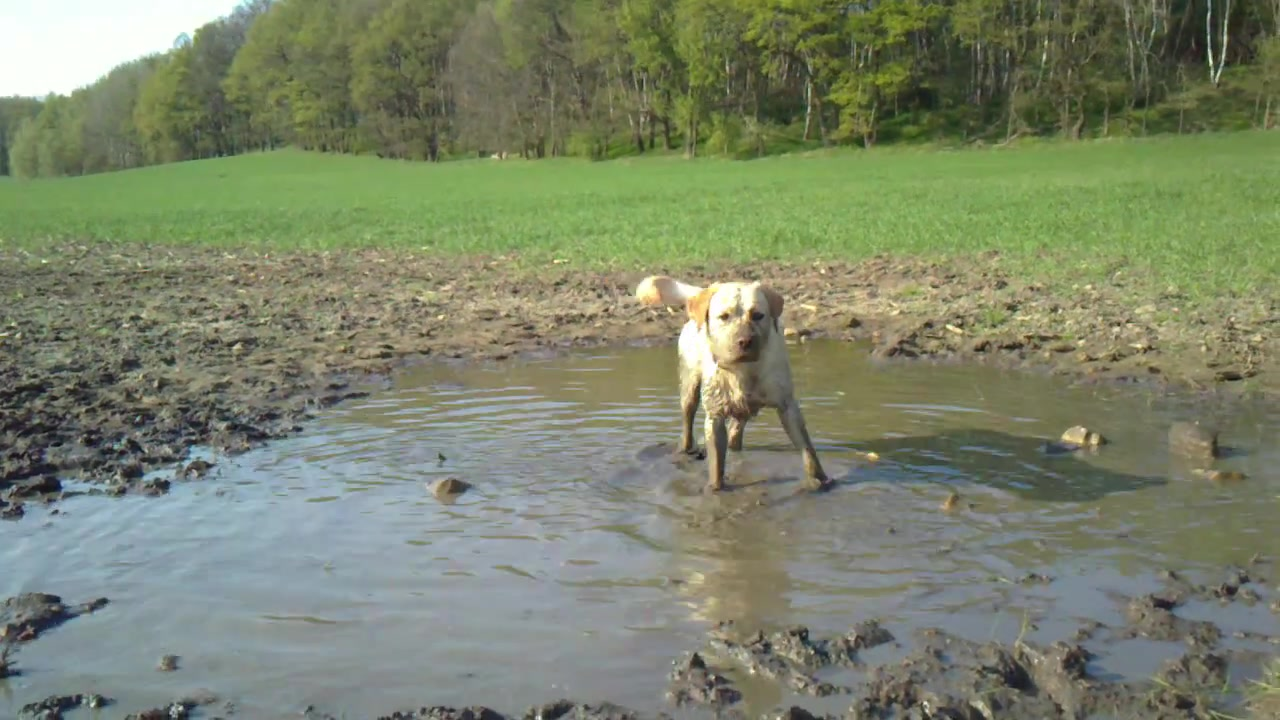dog: (632, 270, 832, 498)
